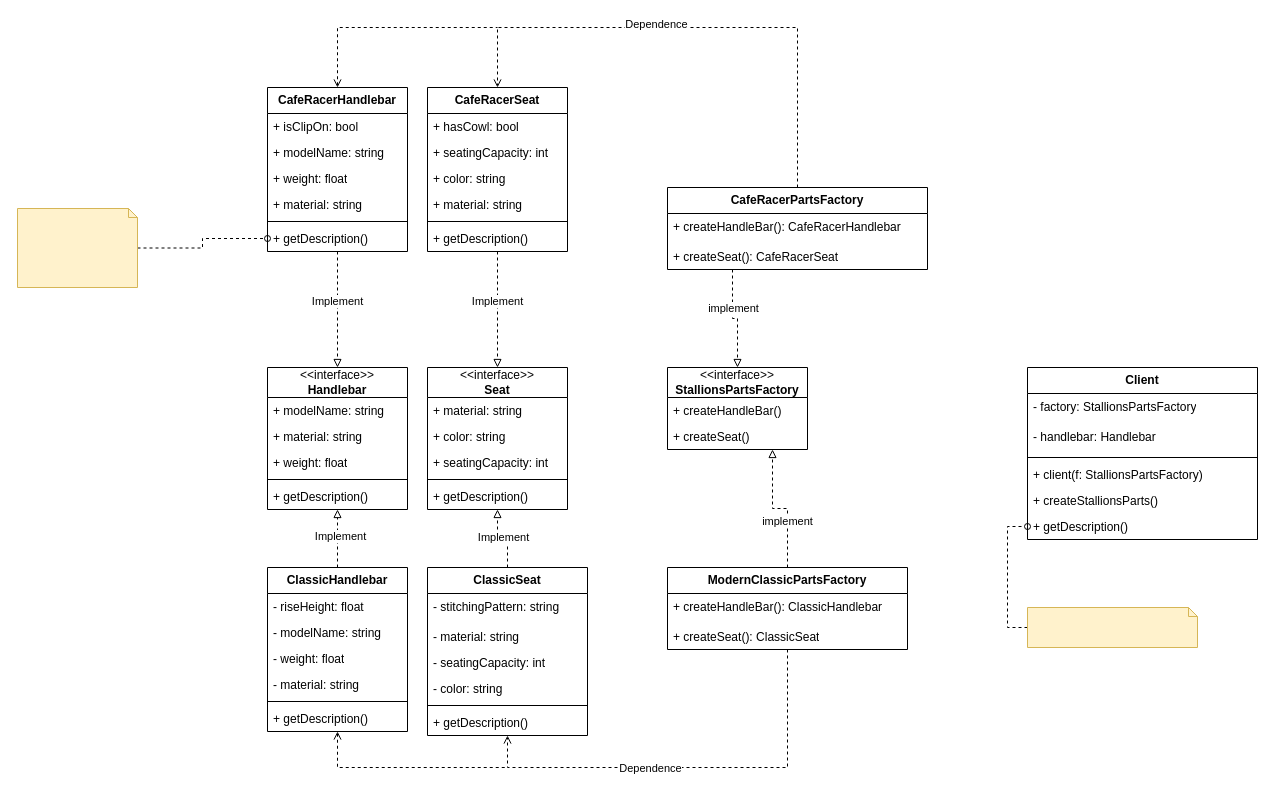
This 1275x793 diagram has some shape labels left out. Here are the shapes that lost their labels. From the top down, the centre of each, then its label:
the point at 77,248: print(modelName) print(weight) print(material) print(isClipOn)
the point at 1112,627: handlebar.GetDescription()
